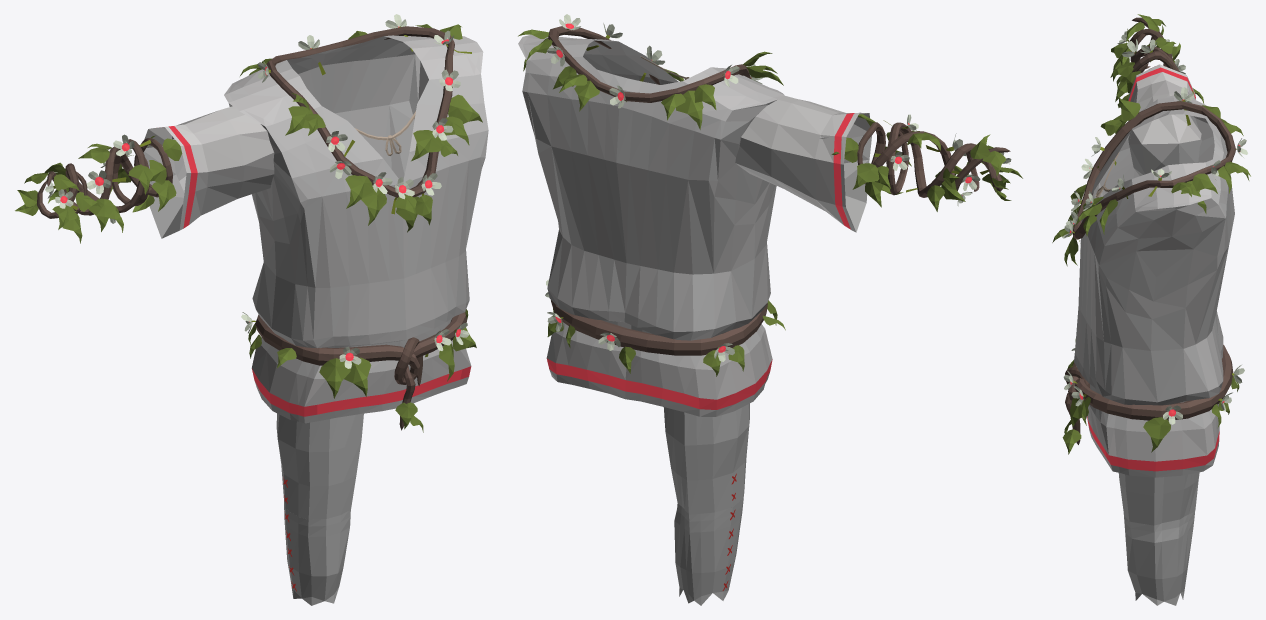
File: flowerShirt.glb
3 renders of one model, left to right at view 1: azimuth 30°, elevation 25°; view 2: azimuth 150°, elevation 25°; view 3: azimuth 270°, elevation 25°, orthographic. The views are drawn at different scales.
Parts seen in each view (by area): view 1: flowerShirt, flowerShirtUpperArm, flowerWristGuard, whitePantsUpperLeg, whitePantsLowerLeg; view 2: flowerShirt, flowerShirtUpperArm, flowerWristGuard, whitePantsUpperLeg, whitePantsLowerLeg; view 3: flowerShirt, flowerShirtUpperArm, whitePantsLowerLeg, whitePantsUpperLeg, flowerWristGuard.
Boxes of the visible parts, <box> form: flowerShirt: <box>224,14,488,432</box>; flowerShirtUpperArm: <box>143,106,274,238</box>; flowerWristGuard: <box>15,134,182,243</box>; whitePantsUpperLeg: <box>276,413,363,519</box>; whitePantsLowerLeg: <box>284,501,350,605</box>; flowerShirt: <box>518,14,785,416</box>; flowerShirtUpperArm: <box>735,95,871,232</box>; flowerWristGuard: <box>831,114,1022,211</box>; whitePantsUpperLeg: <box>663,403,749,514</box>; whitePantsLowerLeg: <box>674,496,743,605</box>; flowerShirt: <box>1052,87,1250,477</box>; flowerShirtUpperArm: <box>1128,64,1201,175</box>; whitePantsLowerLeg: <box>1123,511,1194,605</box>; whitePantsUpperLeg: <box>1118,472,1199,525</box>; flowerWristGuard: <box>1110,14,1203,107</box>.
Bounding box in the file's own units: 1.24 × 1.35 × 0.4921.
